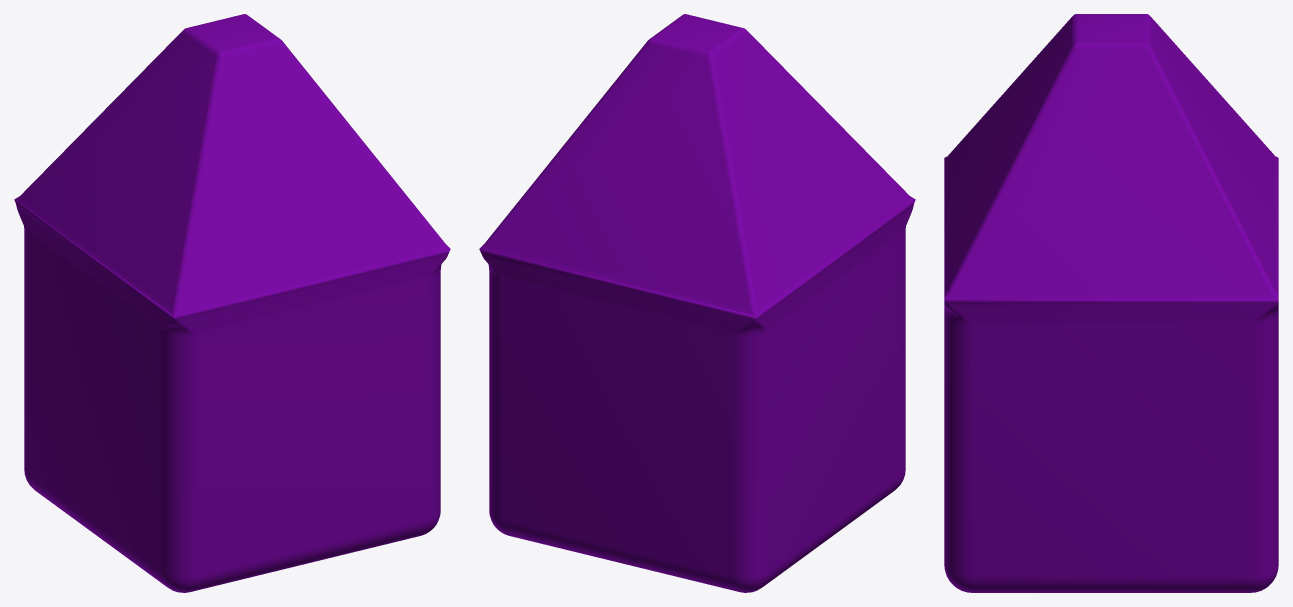
3 renders of one model, left to right at view 1: azimuth 30°, elevation 25°; view 2: azimuth 150°, elevation 25°; view 3: azimuth 270°, elevation 25°, orthographic. The views are drawn at different scales.
Parts seen in each view (by area): view 1: Cube; view 2: Cube; view 3: Cube.
Part boxes in pixels (box(x1,y1,x2,y2)): Cube: box(14, 14, 450, 592); Cube: box(479, 14, 915, 592); Cube: box(944, 14, 1278, 592).
Size of the model in its own units: 2 by 3.32 by 2.
